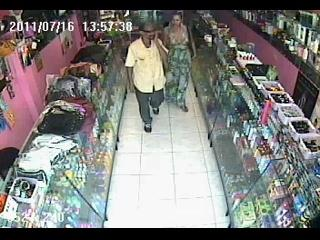Normal: (124, 22, 170, 134), (163, 13, 196, 113)
